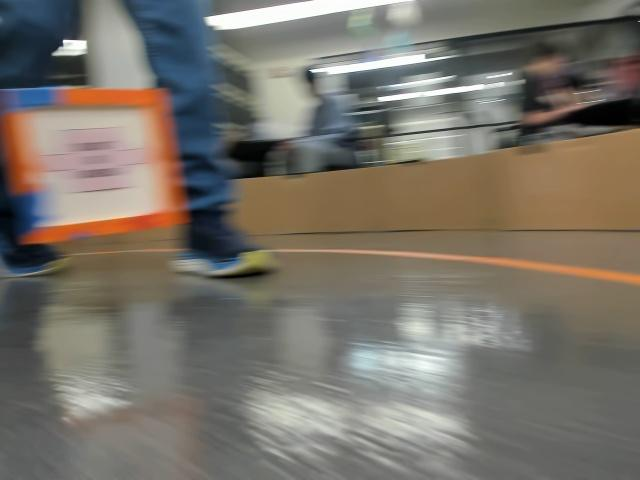Do Not Go Around: (32, 134, 151, 195)
